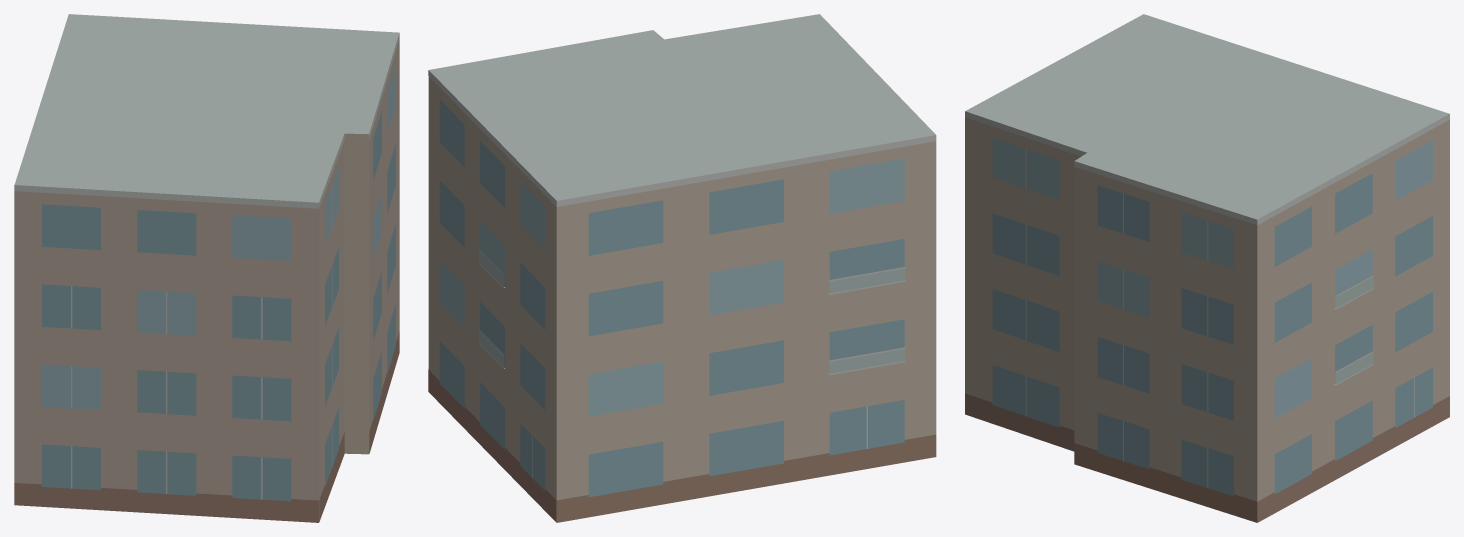
File: survey-upis-32629175.glb
3 renders of one model, left to right at view 1: azimuth 30°, elevation 25°; view 2: azimuth 150°, elevation 25°; view 3: azimuth 270°, elevation 25°, orthographic. The views are drawn at different scales.
Parts seen in each view (by area): view 1: survey-upis-32629175.tmp; view 2: survey-upis-32629175.tmp; view 3: survey-upis-32629175.tmp.
Part boxes in pixels (x1,y1,x2,y2): survey-upis-32629175.tmp: [14, 14, 399, 522]; survey-upis-32629175.tmp: [428, 14, 936, 522]; survey-upis-32629175.tmp: [965, 14, 1449, 522].
Size of the model in its own units: 18.63 by 12.8 by 18.55.
